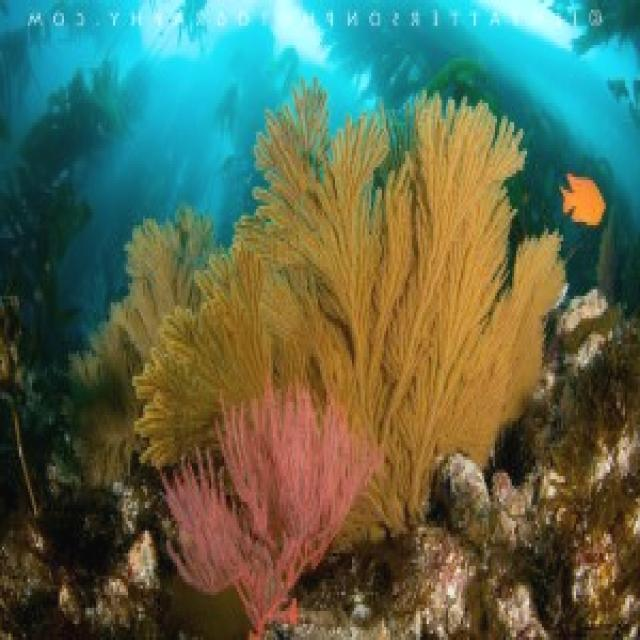Coral: (68, 72, 568, 566), (159, 353, 386, 640)
